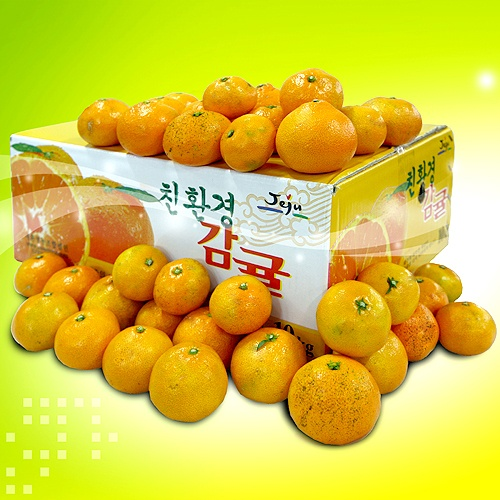mandarin: (286, 354, 383, 442), (150, 341, 229, 424), (315, 280, 392, 357), (277, 102, 358, 175), (232, 329, 306, 406), (102, 325, 174, 397), (334, 330, 407, 394), (10, 292, 77, 355), (54, 309, 119, 371), (362, 261, 420, 327), (210, 271, 271, 333), (163, 111, 229, 166), (176, 305, 233, 365), (117, 99, 175, 157), (83, 271, 137, 331), (221, 113, 274, 173), (435, 304, 497, 355), (362, 96, 422, 148), (280, 70, 345, 117), (154, 259, 212, 311), (113, 243, 166, 299), (385, 308, 439, 360), (338, 104, 386, 156), (43, 265, 100, 307), (15, 250, 67, 293), (203, 77, 258, 116), (79, 98, 126, 143), (417, 261, 463, 304), (138, 301, 177, 346), (408, 275, 453, 309), (252, 84, 280, 109)
